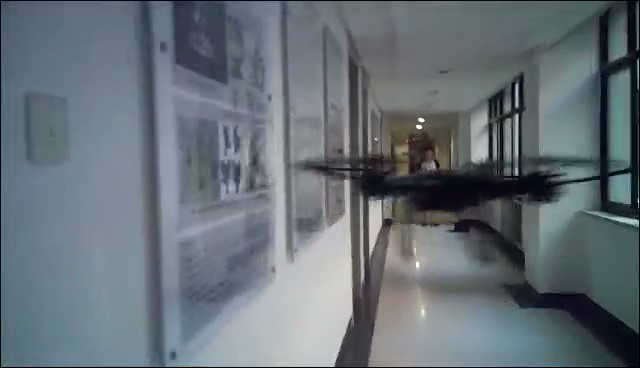drone: (292, 155, 626, 269)
person: (416, 147, 447, 229)
